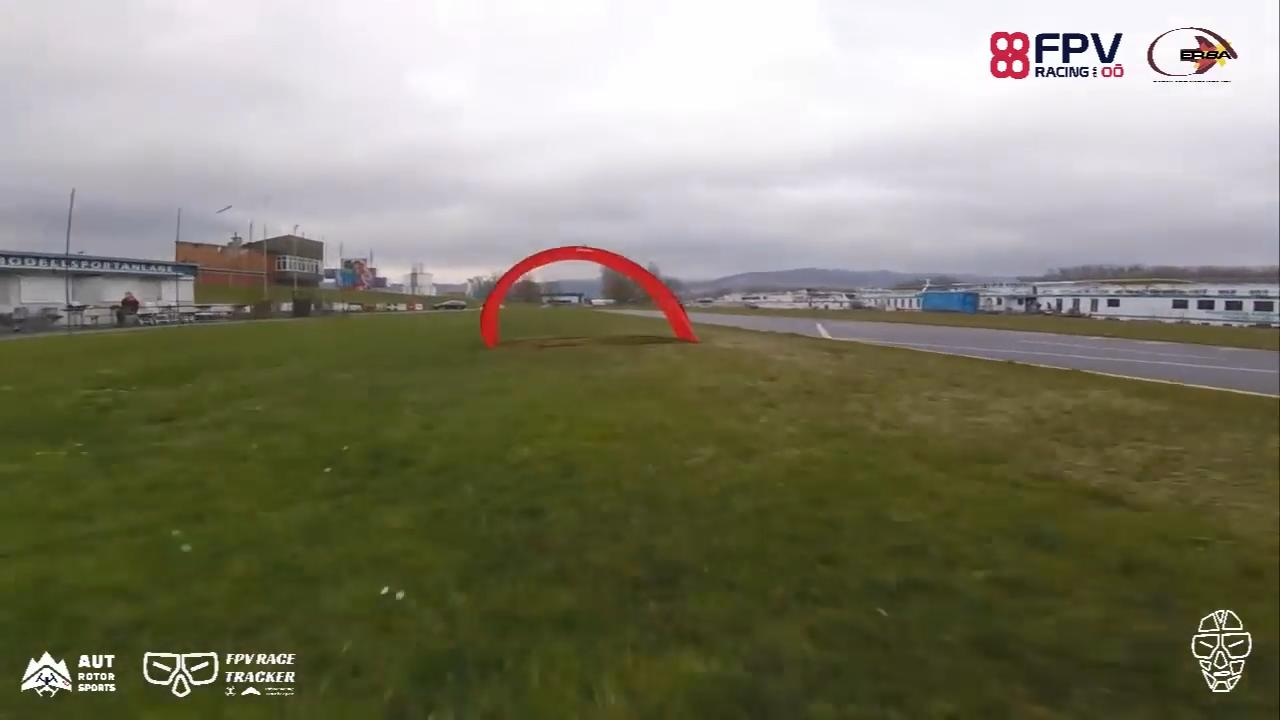gate: (472, 242, 700, 348)
